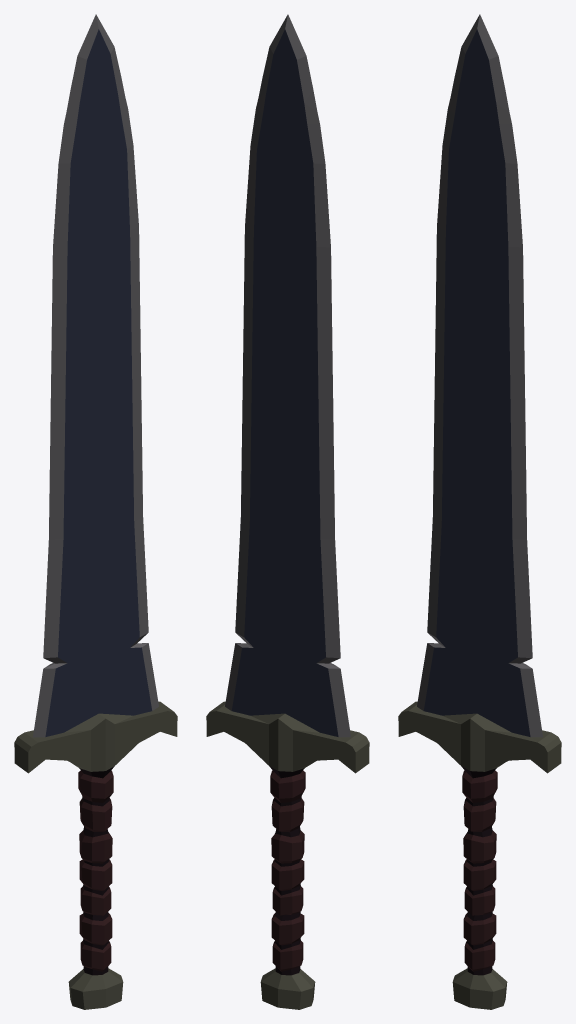
Rendered from Sword_big.obj.
3 renders of one model, left to right at view 1: azimuth 30°, elevation 25°; view 2: azimuth 150°, elevation 25°; view 3: azimuth 330°, elevation 25°, orthographic.
Visible parts, largest first — view 1: Sword_big_Cylinder.038; view 2: Sword_big_Cylinder.038; view 3: Sword_big_Cylinder.038.
Boxes of the visible parts, <box> form: Sword_big_Cylinder.038: <box>14,14,177,1009</box>; Sword_big_Cylinder.038: <box>206,14,369,1009</box>; Sword_big_Cylinder.038: <box>398,14,561,1009</box>.
Bounding box in the file's own units: 0.1884 × 1.19 × 0.0441.
